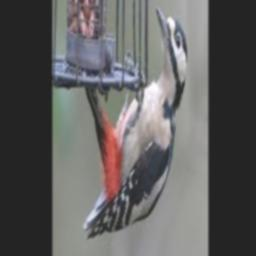Woodpecker: (84, 7, 188, 240)
